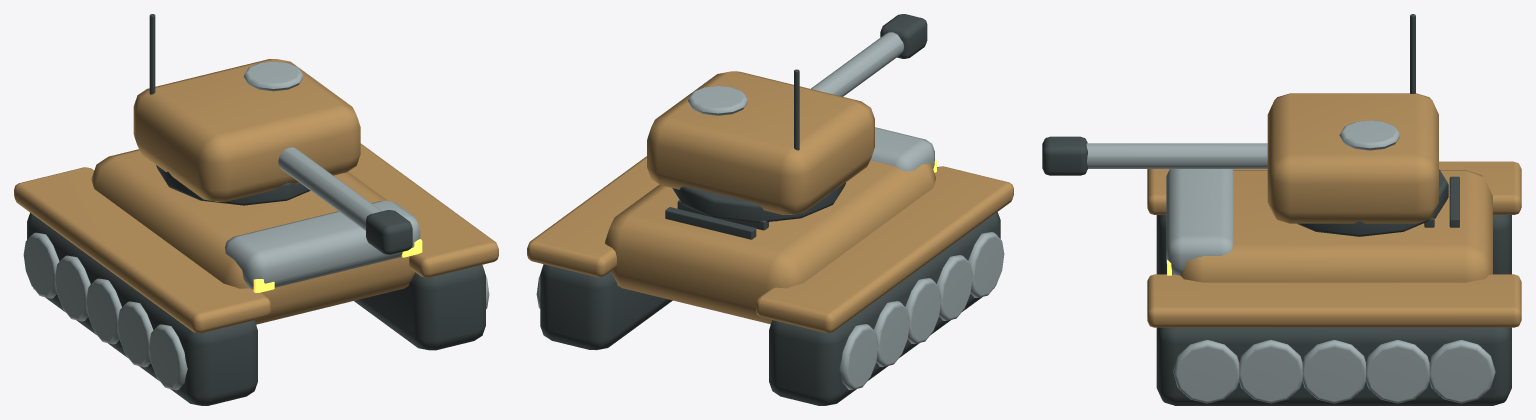
The model's file is enemy.glb.
3 views of the same model, side by side, from view 1: azimuth 30°, elevation 25°; view 2: azimuth 150°, elevation 25°; view 3: azimuth 270°, elevation 25° (orthographic).
Visible parts, largest first — view 1: Turret, Sloped hull, Track fender, Track assembly, Forward armor, Track assembly.001, Track fender.001, Main barrel, Road wheel, Road wheel.003, Road wheel.001, Road wheel.004 (+5 smaller); view 2: Sloped hull, Turret, Track fender, Track assembly, Track assembly.001, Track fender.001, Turret collar, Main barrel, Forward armor, Road wheel.004, Road wheel, Road wheel.002 (+6 smaller); view 3: Turret, Sloped hull, Track fender.001, Track assembly.001, Forward armor, Main barrel, Road wheel.005, Road wheel.009, Road wheel.007, Road wheel.008, Road wheel.006, Track fender (+6 smaller).
Part boxes in pixels (x1,y1,x2,y2): Turret: (133, 59, 360, 201); Sloped hull: (91, 149, 414, 324); Track fender: (14, 167, 270, 333); Track assembly: (27, 212, 257, 405); Forward armor: (225, 200, 420, 289); Track assembly.001: (354, 265, 485, 350); Track fender.001: (348, 143, 498, 277); Main barrel: (278, 147, 381, 230); Road wheel: (149, 324, 187, 390); Road wheel.003: (55, 255, 90, 321); Road wheel.001: (117, 301, 153, 367); Road wheel.004: (23, 232, 59, 298); Sloped hull: (605, 160, 935, 324); Turret: (647, 71, 874, 214); Track fender: (756, 166, 1013, 332); Track assembly: (769, 212, 1000, 405); Track assembly.001: (540, 264, 672, 350); Track fender.001: (527, 156, 659, 277); Turret collar: (672, 182, 845, 222); Main barrel: (811, 32, 903, 96); Forward armor: (870, 127, 934, 171); Road wheel.004: (839, 324, 878, 390); Road wheel: (968, 232, 1004, 297); Road wheel.002: (905, 278, 941, 343); Turret: (1267, 93, 1438, 223); Sloped hull: (1180, 170, 1492, 282); Track fender.001: (1147, 274, 1521, 327); Track assembly.001: (1156, 327, 1511, 405); Forward armor: (1166, 169, 1233, 275); Main barrel: (1086, 143, 1267, 168); Road wheel.005: (1173, 340, 1239, 403); Road wheel.009: (1429, 340, 1495, 403); Road wheel.007: (1302, 340, 1365, 403); Road wheel.008: (1366, 340, 1429, 403); Road wheel.006: (1239, 340, 1302, 403); Track fender: (1147, 161, 1521, 214).
Bounding box in the file's own units: 2.86 × 2.54 × 3.77.
